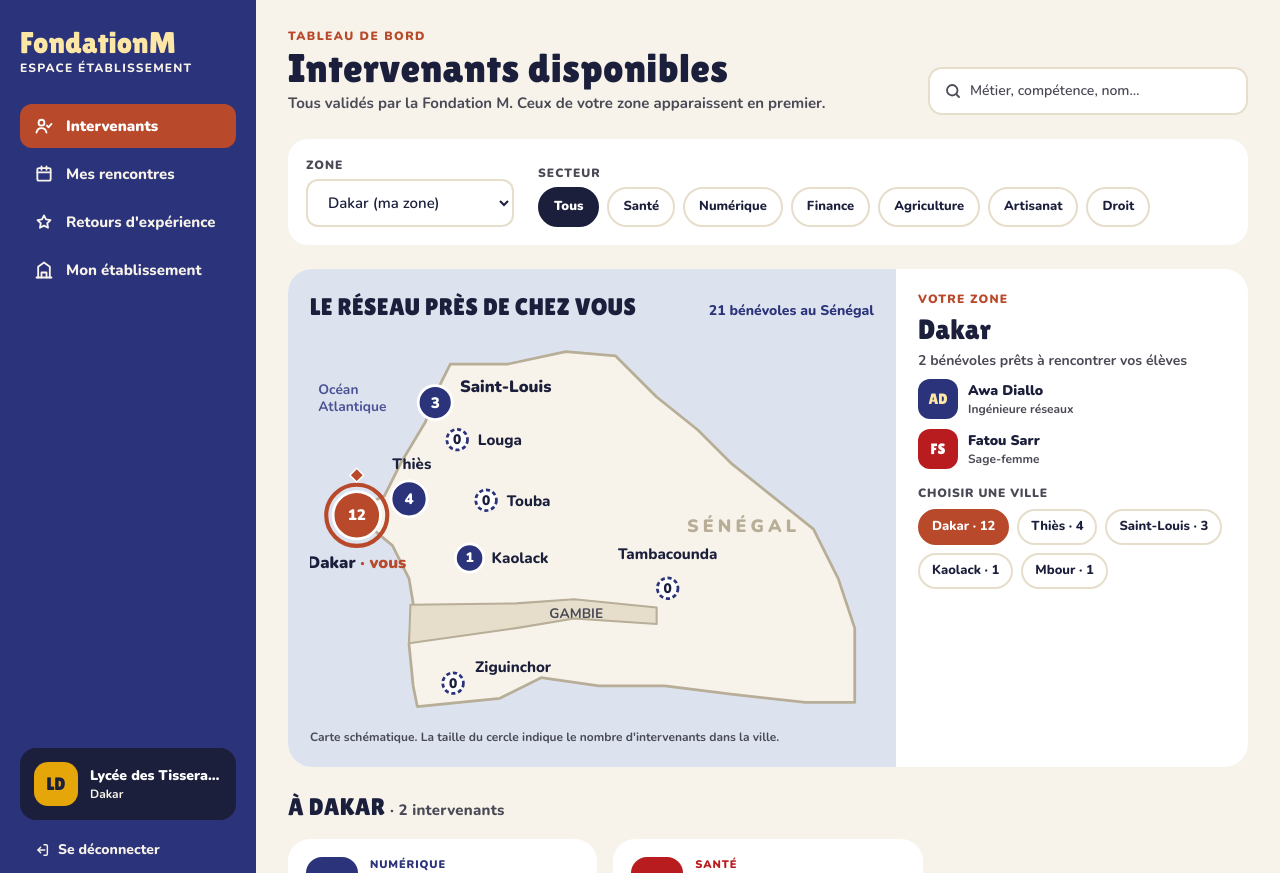
Test case: Intervenants disponibles › envoie les filtres au serveur et les garde dans l’URL
Expected: the heading "À Dakar · 2 intervenants" is shown, [288,793,505,820]
Click the button "Santé" at (641, 206), box [607,186,675,226]
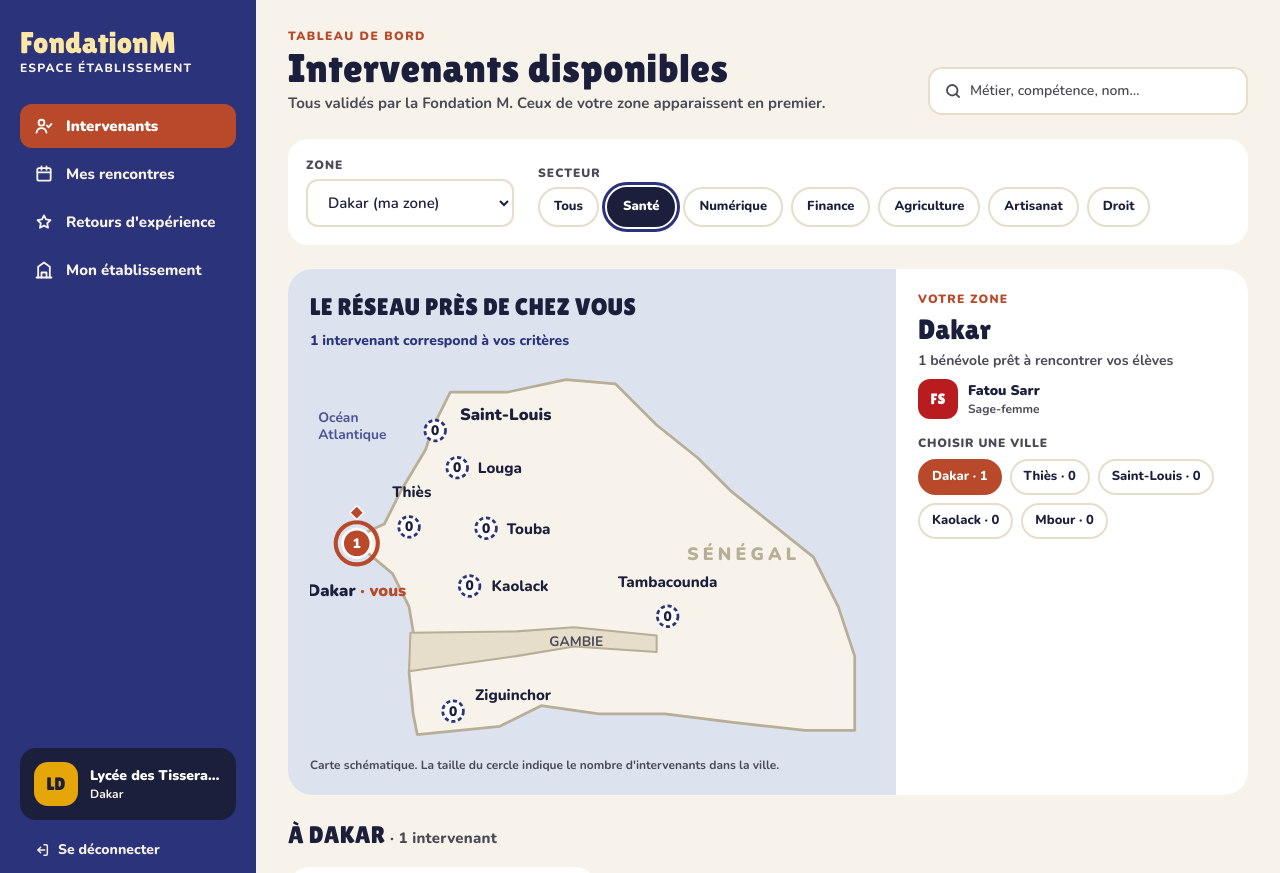
Expected: the heading "À Dakar · 1 intervenant" is shown, [288,821,497,848]
Select "Toutes les zones" in the dropdown labelled "Zone" at (410, 202), box [306,178,514,226]
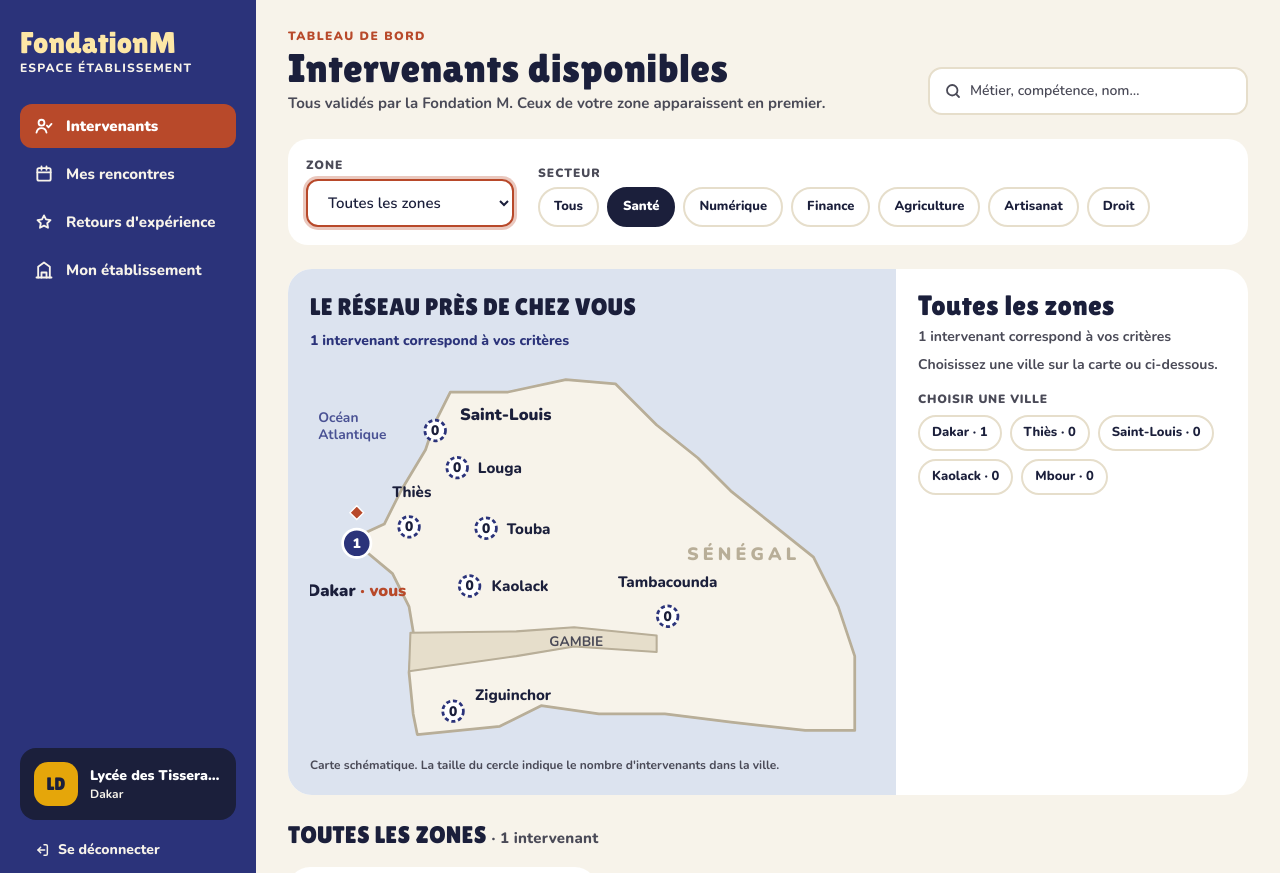
Click the button "Tous" at (568, 206), box [538,186,599,226]
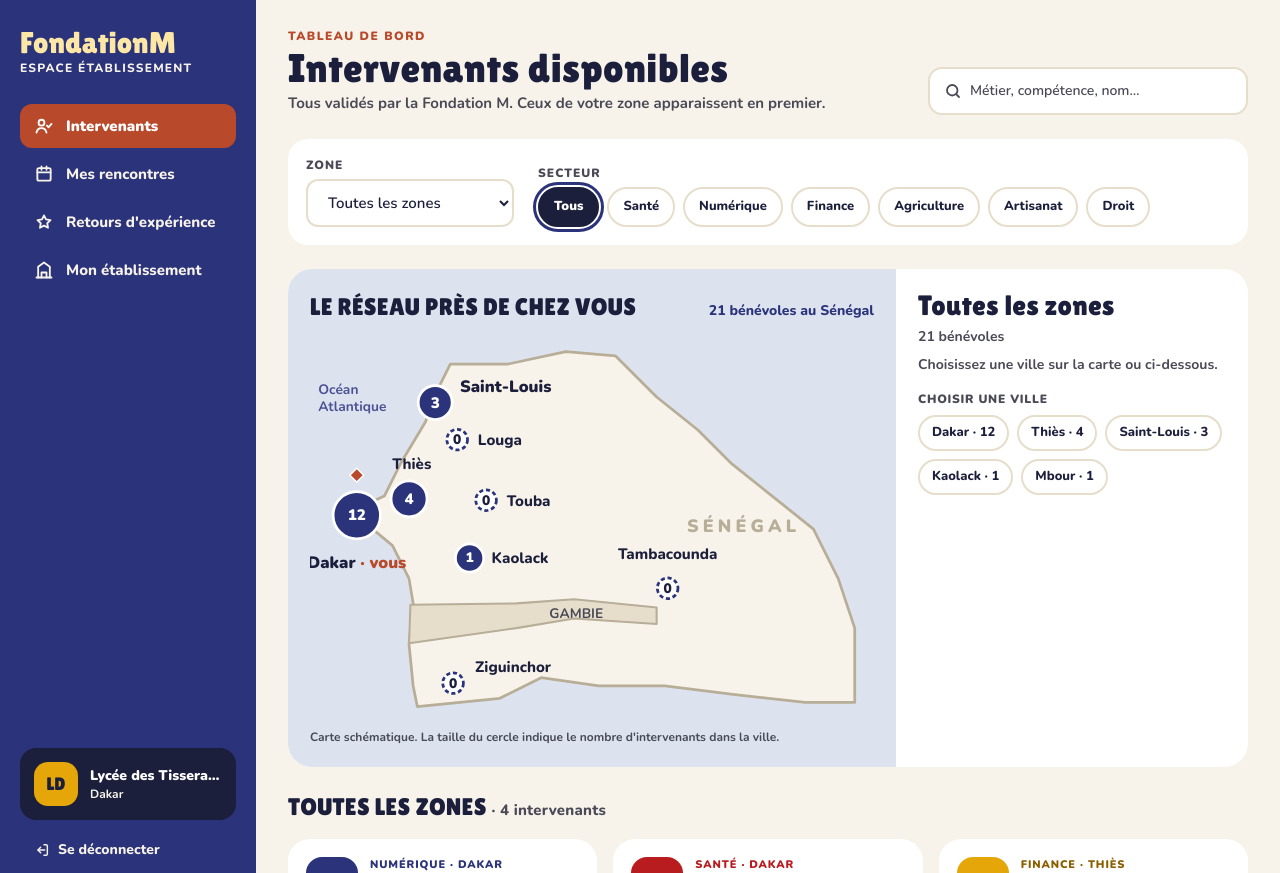
Expected: the heading "Toutes les zones · 4 intervenants" is shown, [288,793,606,820]
Type "comptable" into the search field named "Rechercher un intervenant" at (1101, 90), box [970,68,1232,112]
Then press Enter
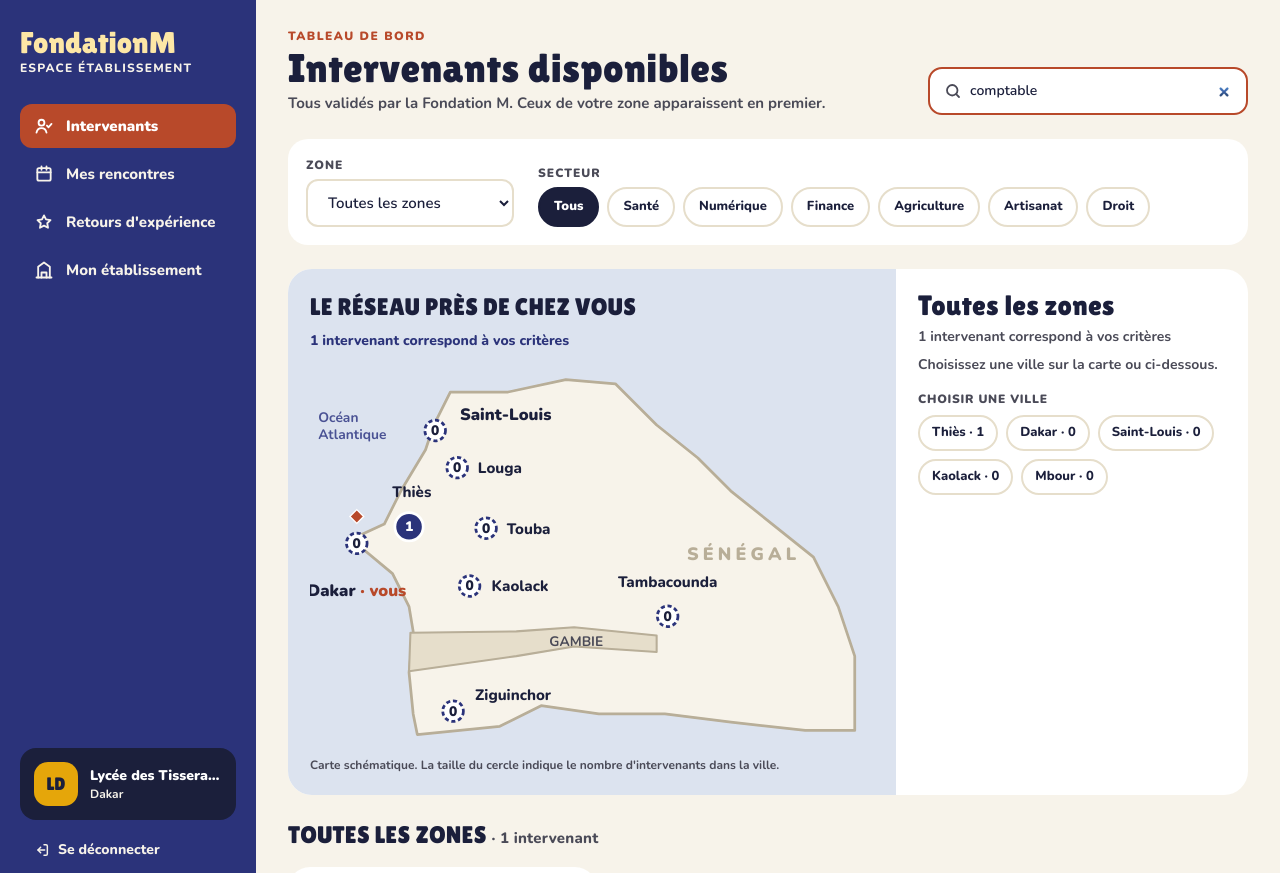
Expected: the heading "Toutes les zones · 1 intervenant" is shown, [288,821,598,848]
